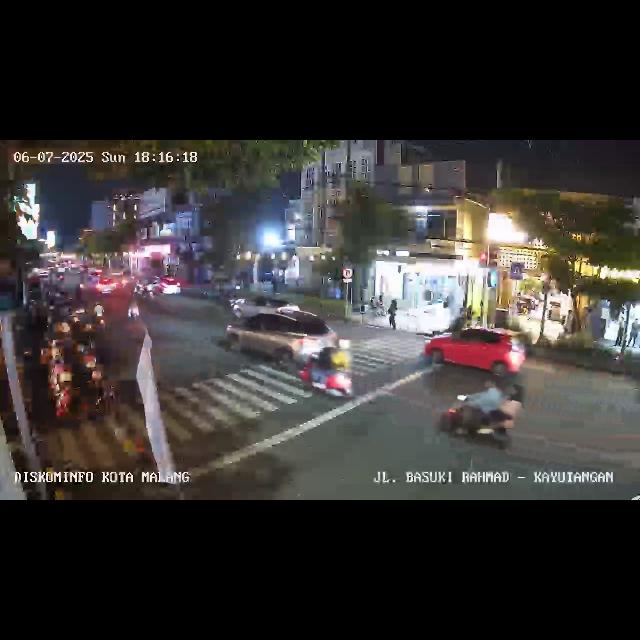car: (224, 306, 342, 370), (425, 326, 527, 382), (232, 293, 300, 319), (140, 278, 182, 298), (94, 276, 118, 296)
motorcycle: (436, 377, 522, 451), (296, 330, 360, 402), (92, 298, 106, 332), (126, 293, 140, 323)
person: (387, 298, 398, 329), (615, 316, 625, 348), (628, 317, 638, 348), (566, 308, 576, 336)
